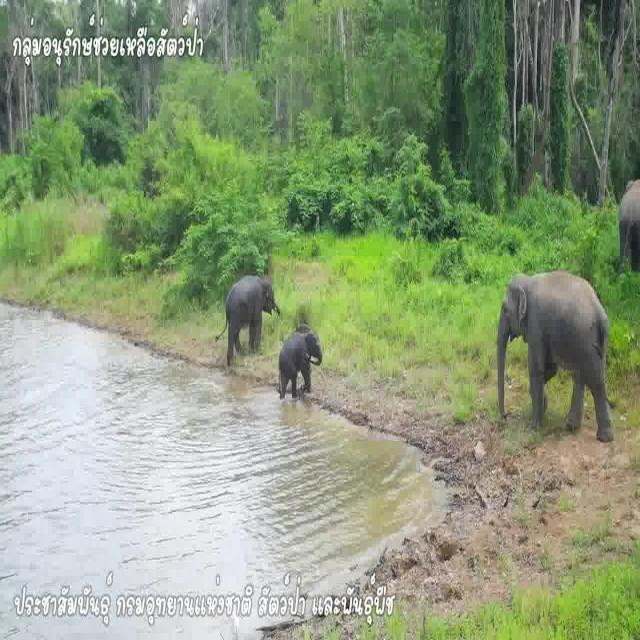Elephant: (496, 266, 611, 428), (221, 267, 272, 345), (279, 324, 325, 396), (619, 175, 640, 258)
